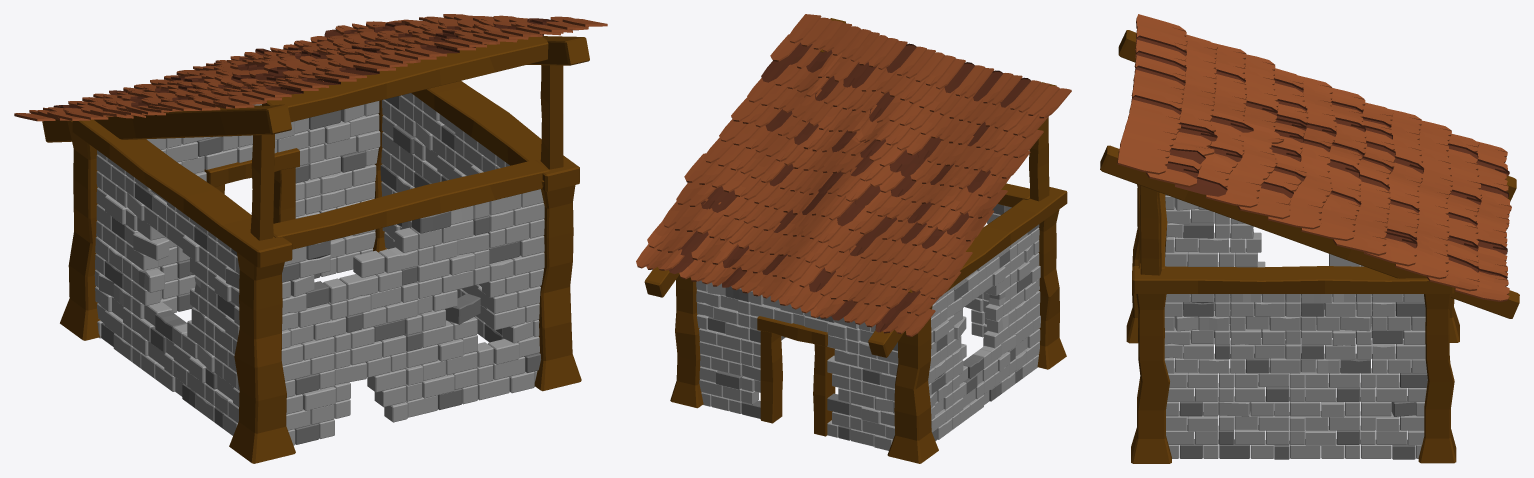
File: hut_single.fbx
3 renders of one model, left to right at view 1: azimuth 30°, elevation 25°; view 2: azimuth 150°, elevation 25°; view 3: azimuth 270°, elevation 25°, orthographic. The views are drawn at different scales.
Visible parts, largest first — view 1: Roof.000; view 2: Roof.000; view 3: Roof.000.
Part boxes in pixels (x1,y1,x2,y2): Roof.000: (14,14,607,463); Roof.000: (636,14,1071,463); Roof.000: (1100,14,1519,463).
Bounding box in the file's own units: 4869 × 4521 × 5458.
